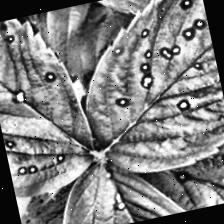Leaf Spot: (62, 0, 224, 184), (0, 7, 103, 206), (39, 137, 220, 224), (132, 131, 224, 219), (72, 0, 203, 26), (14, 179, 87, 224)
